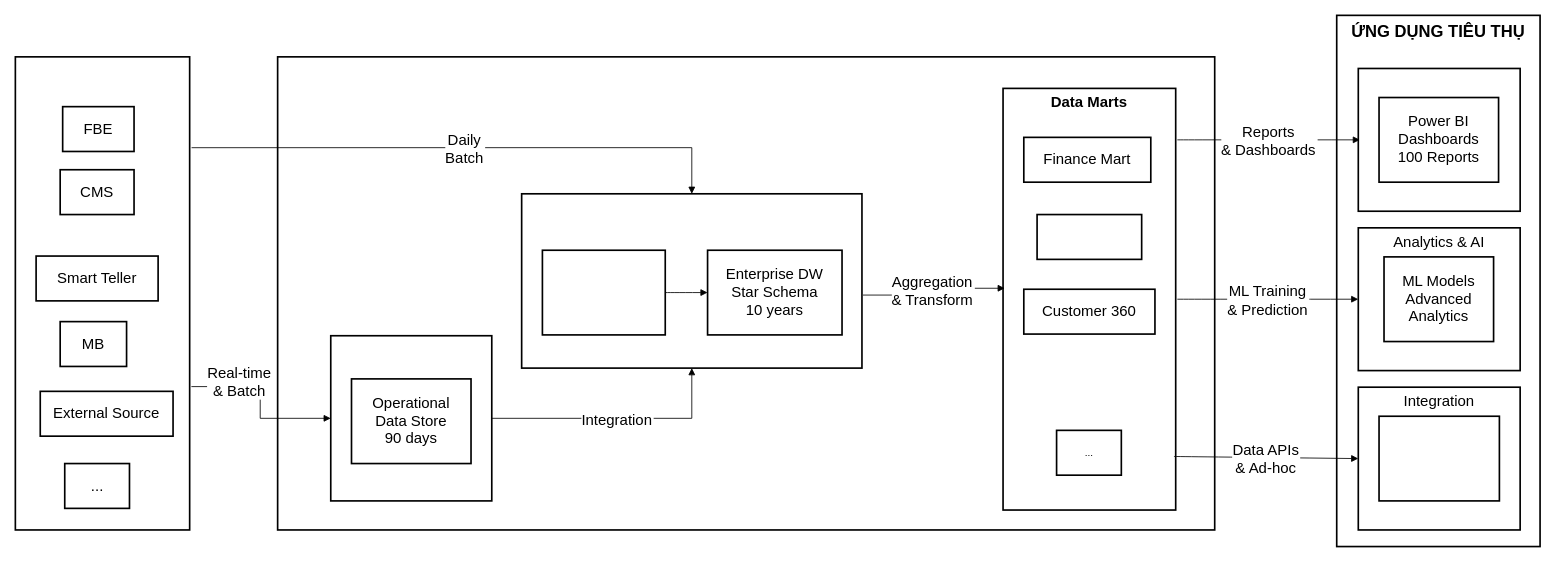
Some shapes in this 1555 by 561 pixel diagram are drawn without their labels. Here are the shapes that lost their labels. From the top down, the box of each, then its label:
(1357, 67, 1521, 212): BI & Reporting
(1036, 213, 1142, 260): Risk Mart
(14, 56, 190, 530): NGUỒN DỮ LIỆU
(541, 249, 666, 335): Data Lake Raw Storage 7 years
(520, 193, 862, 369): Data Lakehouse
(276, 56, 1215, 530): NỀN TẢNG DỮ LIỆU
(330, 334, 492, 501): ODS
(1378, 415, 1500, 501): REST APIs Self-Service BI
